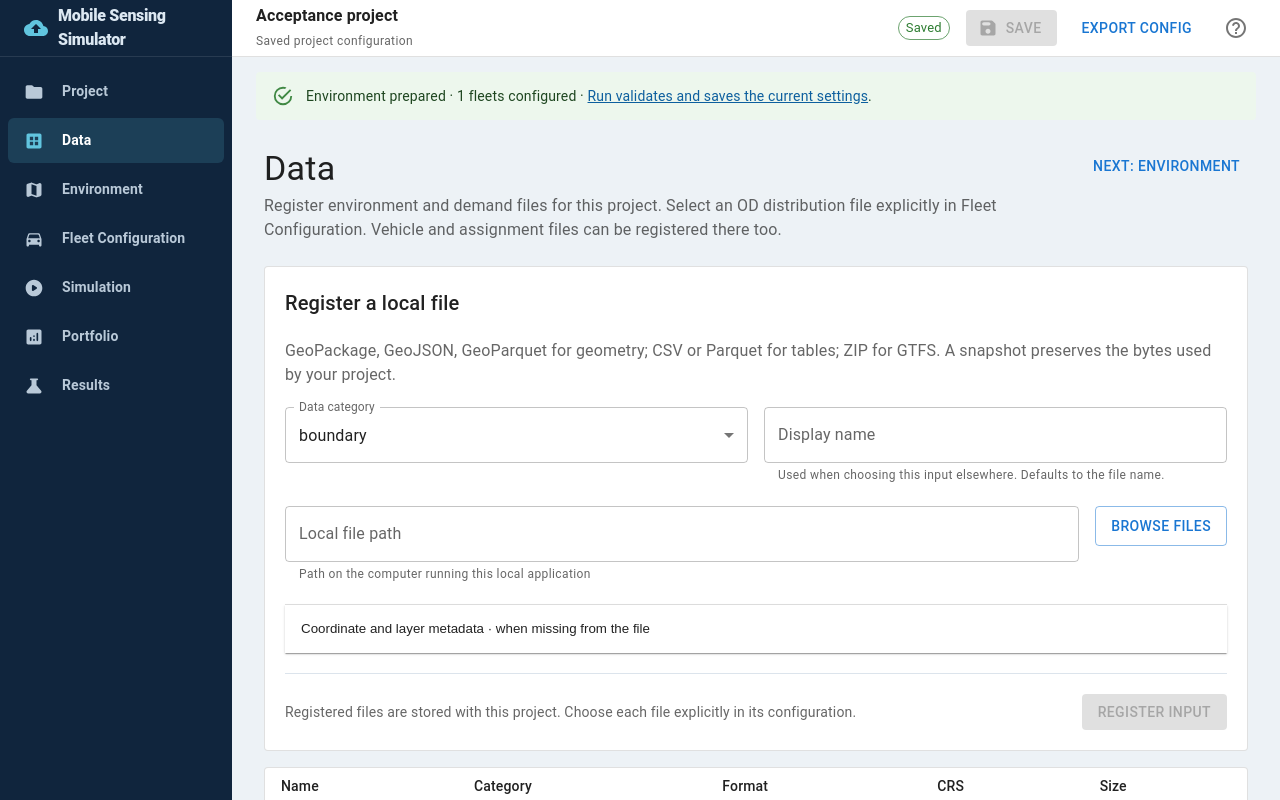
Scenario: MR05 public workbench › supports demand/OD registration on Data while preserving feature and fleet-only vehicle categories
What coordinates should you click on to do the following:
click the dropdown named "Data category"
I would click on:
 (333, 435)
Its box is 299,426 -> 367,444.
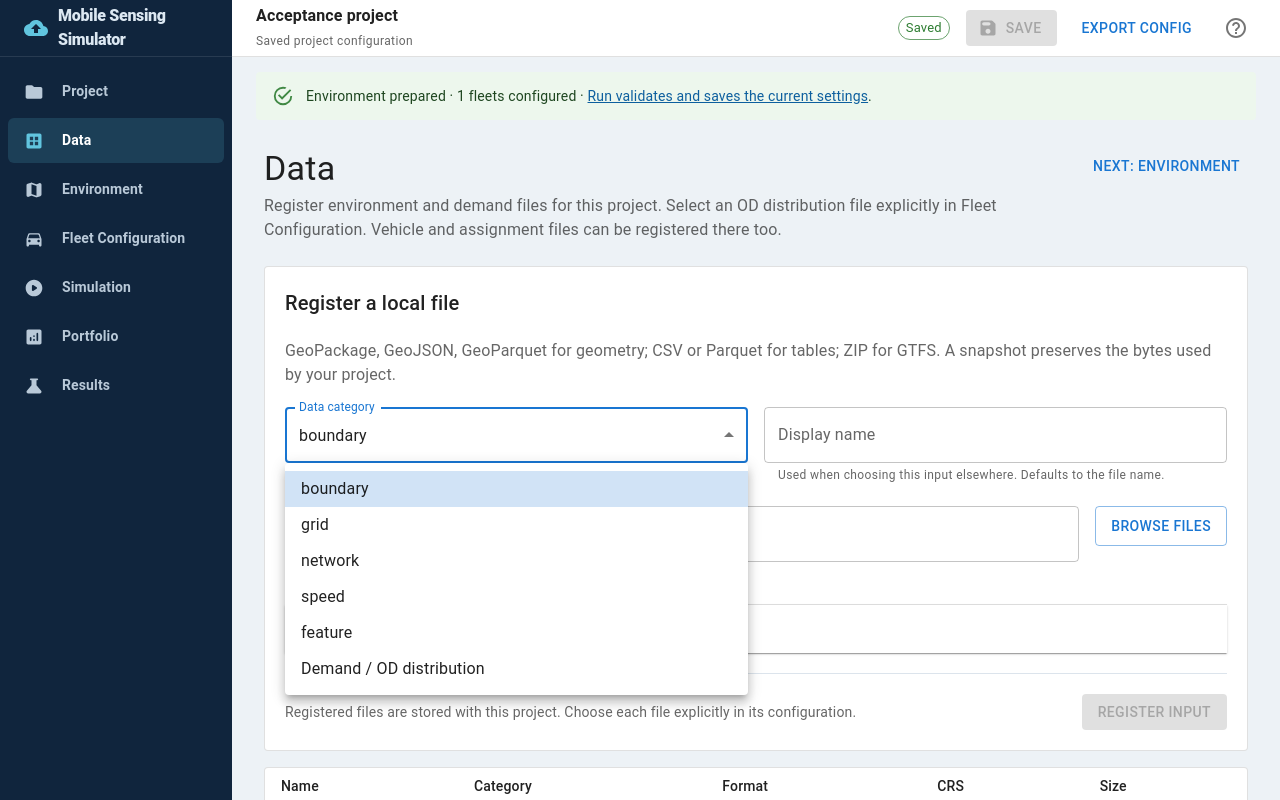
Expected: the option "feature" is shown, 301,623 -> 352,642
Expected: the option "Demand / OD distribution" is shown
What coordinates should you click on to do the following:
click the option "Demand / OD distribution"
I would click on:
 (393, 668)
Its box is 301,659 -> 485,678.
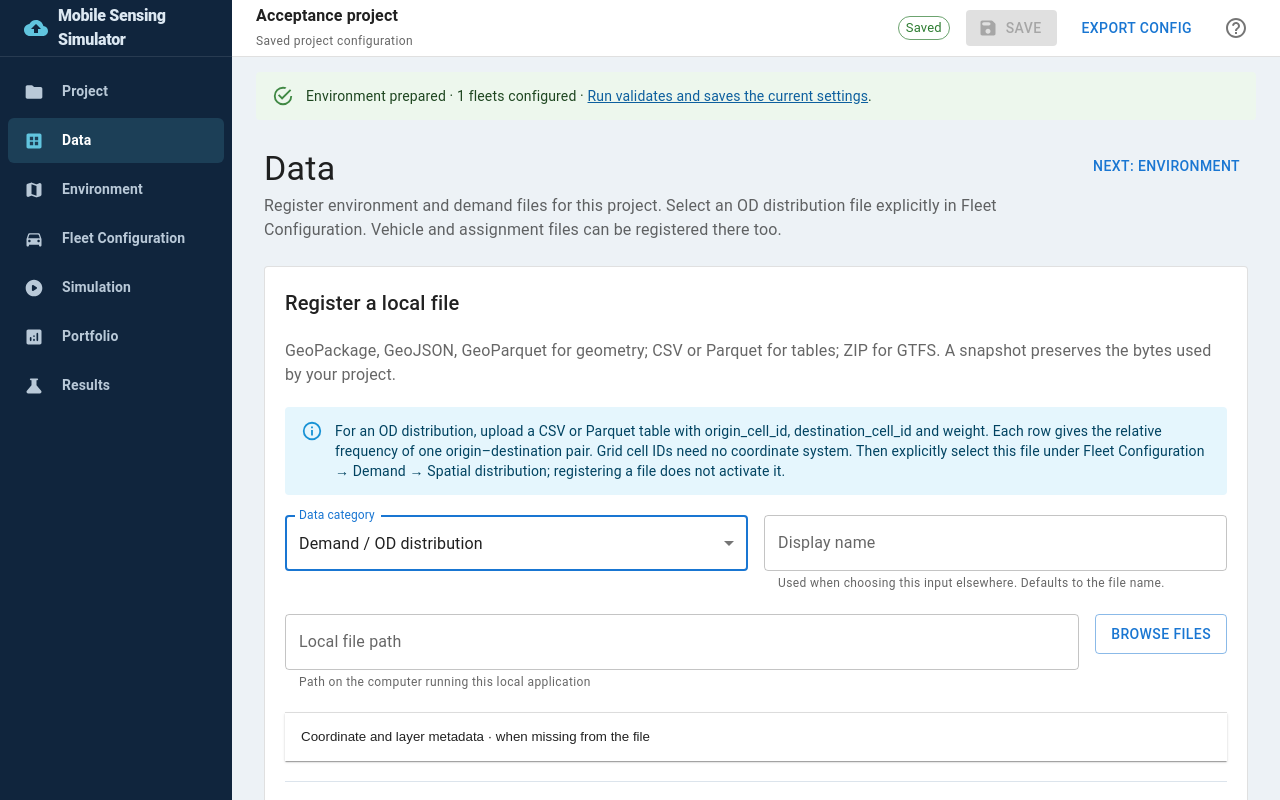
Expected: the text "registering a file does not activate it" is shown, 335,423 -> 1205,479
What coordinates should you click on to do the following:
click the dropdown named "Data category"
I would click on:
 (391, 543)
Its box is 299,534 -> 483,552.
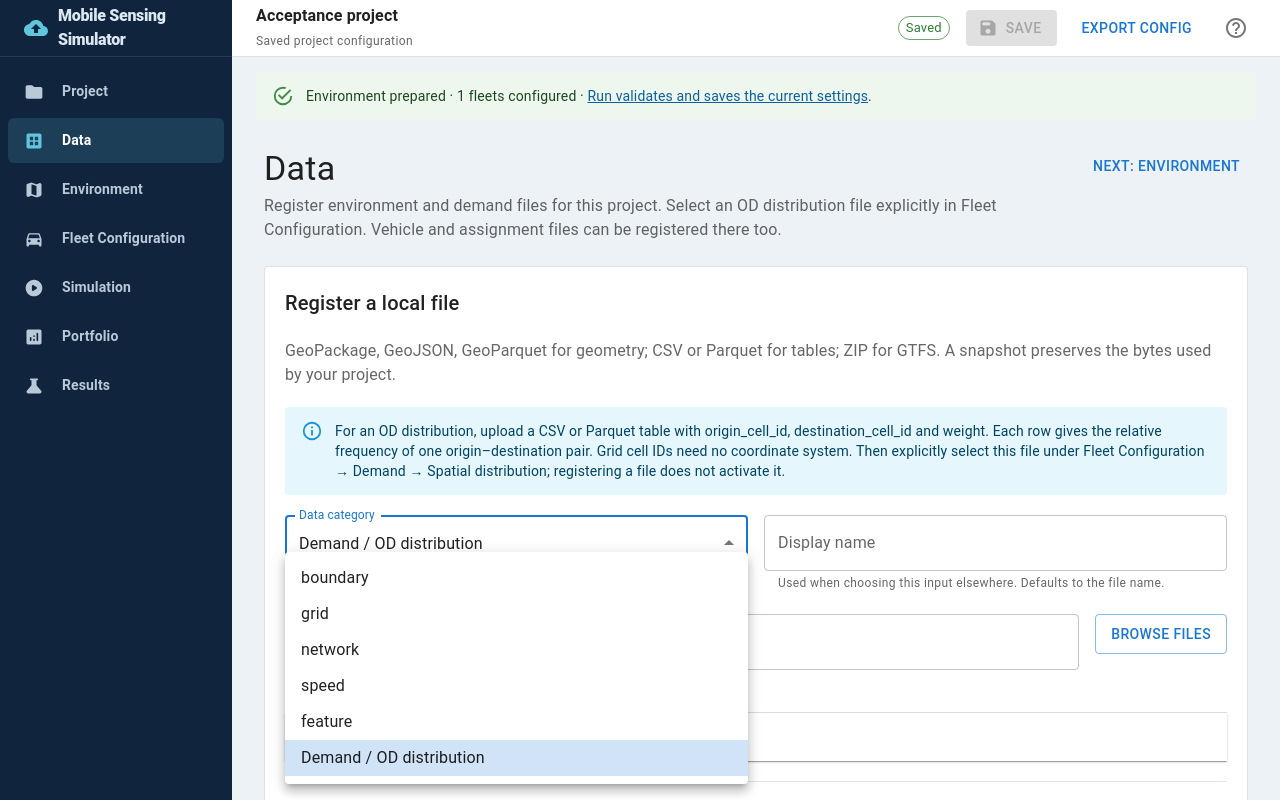
What coordinates should you click on to do the following:
click the option "feature"
I would click on:
 (327, 722)
Its box is 301,712 -> 352,731.
(page scrolled)
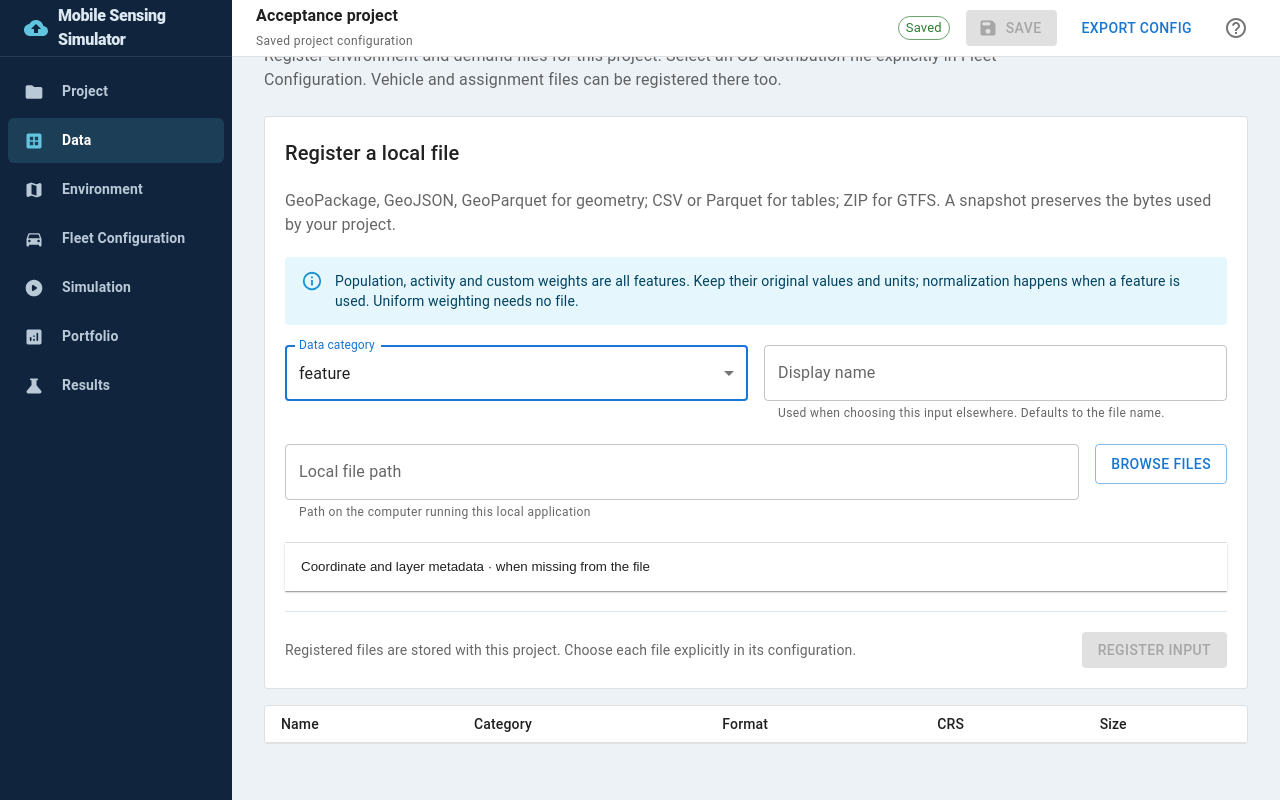
Expected: the button "Register input" is disabled, 1082,632 -> 1227,668
Expected: the text "Population, activity and custom weights are all features" is shown, 335,273 -> 1180,309
